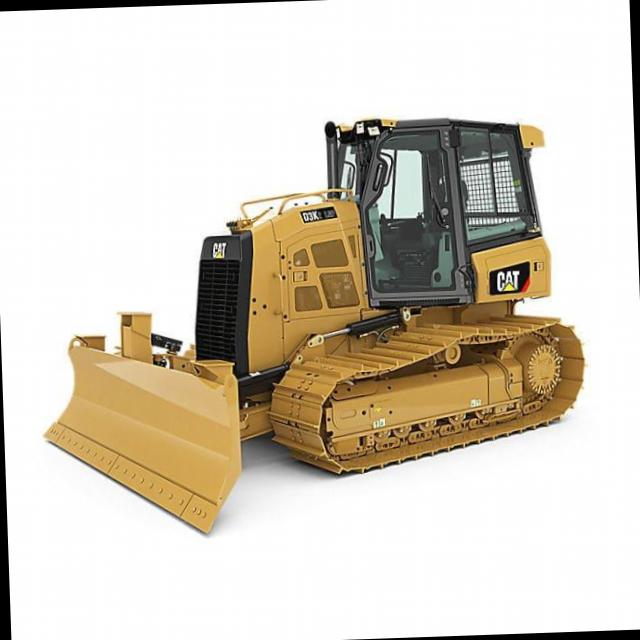Bulldozer: (31, 80, 586, 548)
